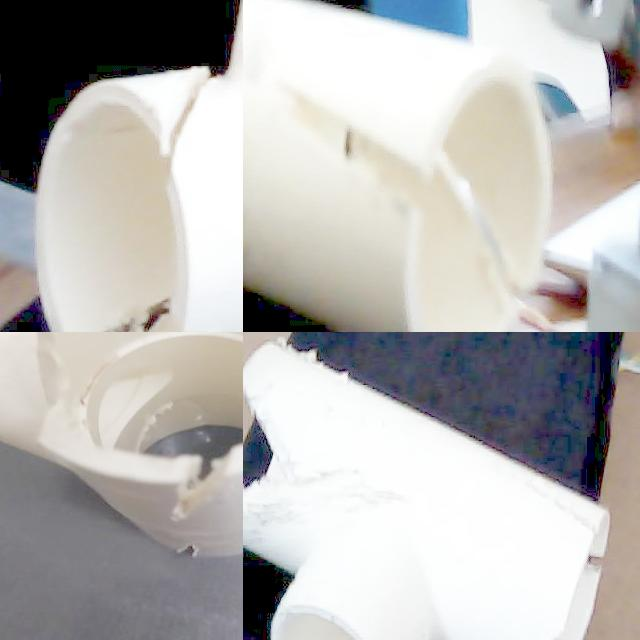Defective: (249, 41, 521, 312), (243, 367, 351, 533), (464, 446, 606, 569), (390, 570, 564, 640), (131, 72, 243, 156), (47, 296, 243, 332), (169, 451, 232, 519), (32, 332, 74, 406), (175, 539, 212, 568)
T Joint: (243, 340, 609, 640), (243, 0, 554, 332)
